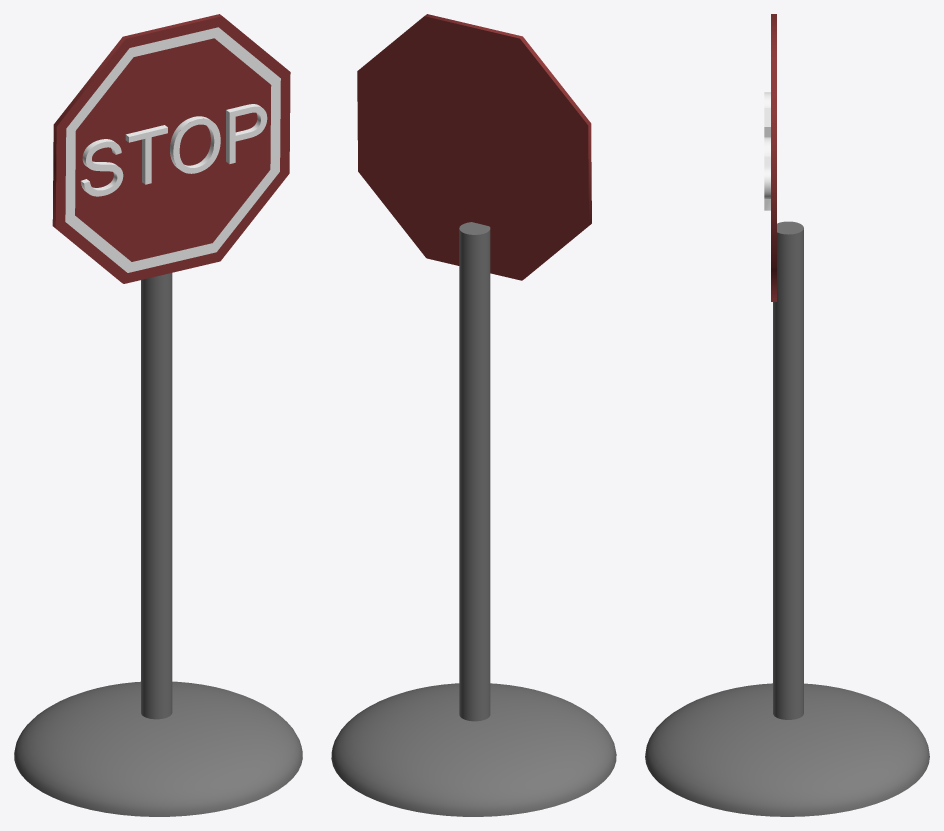
The model's file is 0d57cfd6-4881-44b0-b004-e7366cf94ab6.glb.
3 renders of one model, left to right at view 1: azimuth 30°, elevation 25°; view 2: azimuth 150°, elevation 25°; view 3: azimuth 270°, elevation 25°, orthographic.
Visible parts, largest first — view 1: Cylinder001; view 2: Cylinder001; view 3: Cylinder001.
Boxes of the visible parts, x1=… form: Cylinder001: x1=14, y1=14, x2=302, y2=816; Cylinder001: x1=331, y1=14, x2=616, y2=816; Cylinder001: x1=645, y1=14, x2=929, y2=816.
Size of the model in its own units: 25.98 by 75.51 by 25.98.
